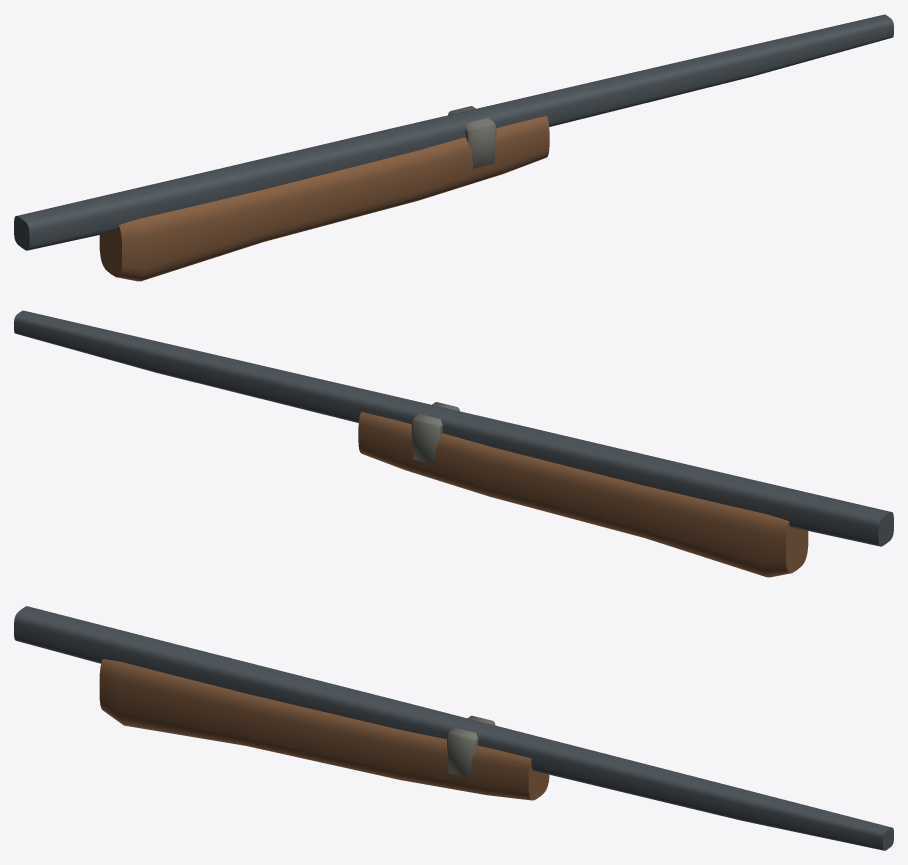
Rendered from rifle.glb.
The picture shows the model from 3 angles, top to bottom: view 1: azimuth 30°, elevation 25°; view 2: azimuth 150°, elevation 25°; view 3: azimuth 330°, elevation 25°; orthographic projection.
Parts seen in each view (by area): view 1: Long upper silhouette, Walnut fore-end, Fore-end binding; view 2: Long upper silhouette, Walnut fore-end, Fore-end binding; view 3: Long upper silhouette, Walnut fore-end, Fore-end binding.
Part boxes in pixels (<box>): Long upper silhouette: <box>14,14,893,250</box>; Walnut fore-end: <box>99,116,549,281</box>; Fore-end binding: <box>448,106,496,168</box>; Long upper silhouette: <box>14,310,893,546</box>; Walnut fore-end: <box>358,412,808,577</box>; Fore-end binding: <box>411,402,459,464</box>; Long upper silhouette: <box>14,606,893,850</box>; Walnut fore-end: <box>99,659,549,800</box>; Fore-end binding: <box>447,715,495,778</box>.
Bounding box in the file's own units: 1.28 × 0.122 × 0.066.
